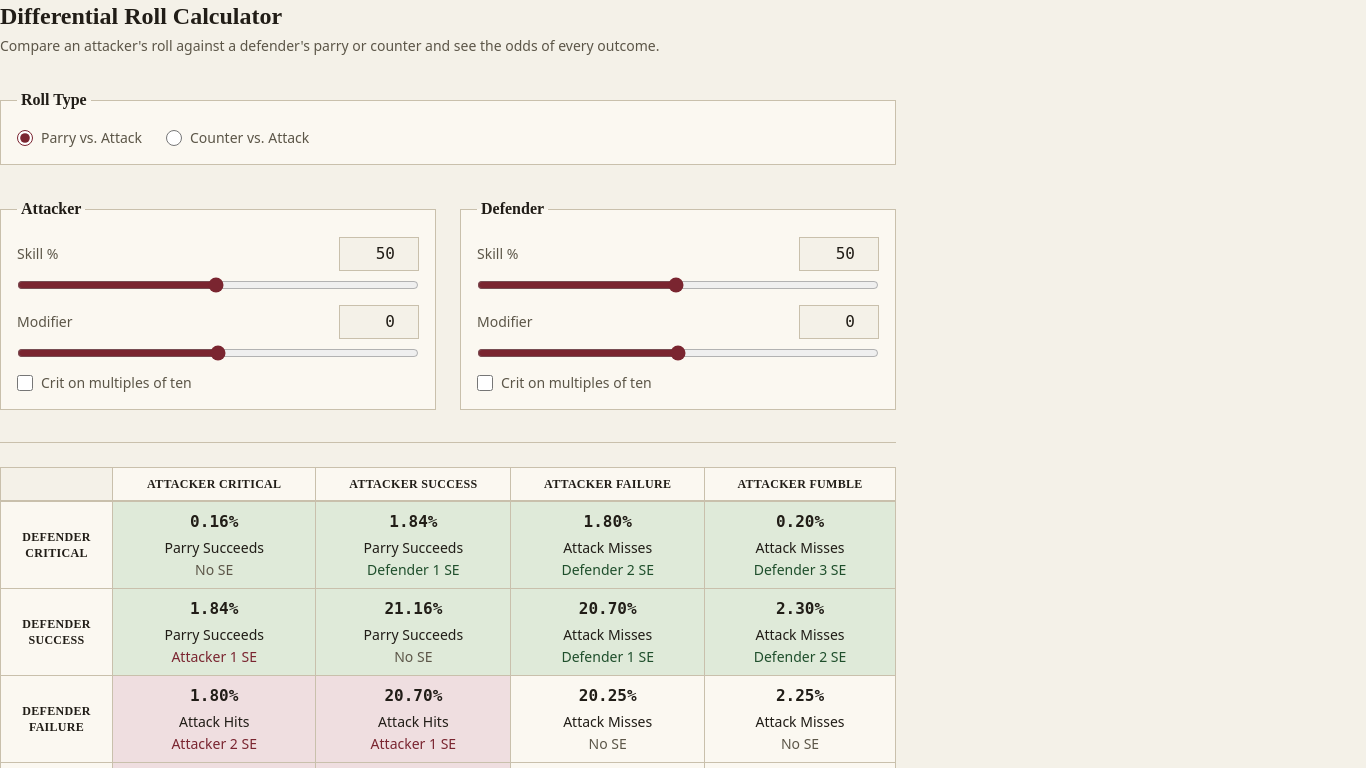
Test case: DifferentialRollCalculator › switches to Counter vs. Attack outcomes when that mode is selected
Click the radio button labelled "Counter vs. Attack" at point(174, 138), box [166,130,182,146]
(page scrolled)
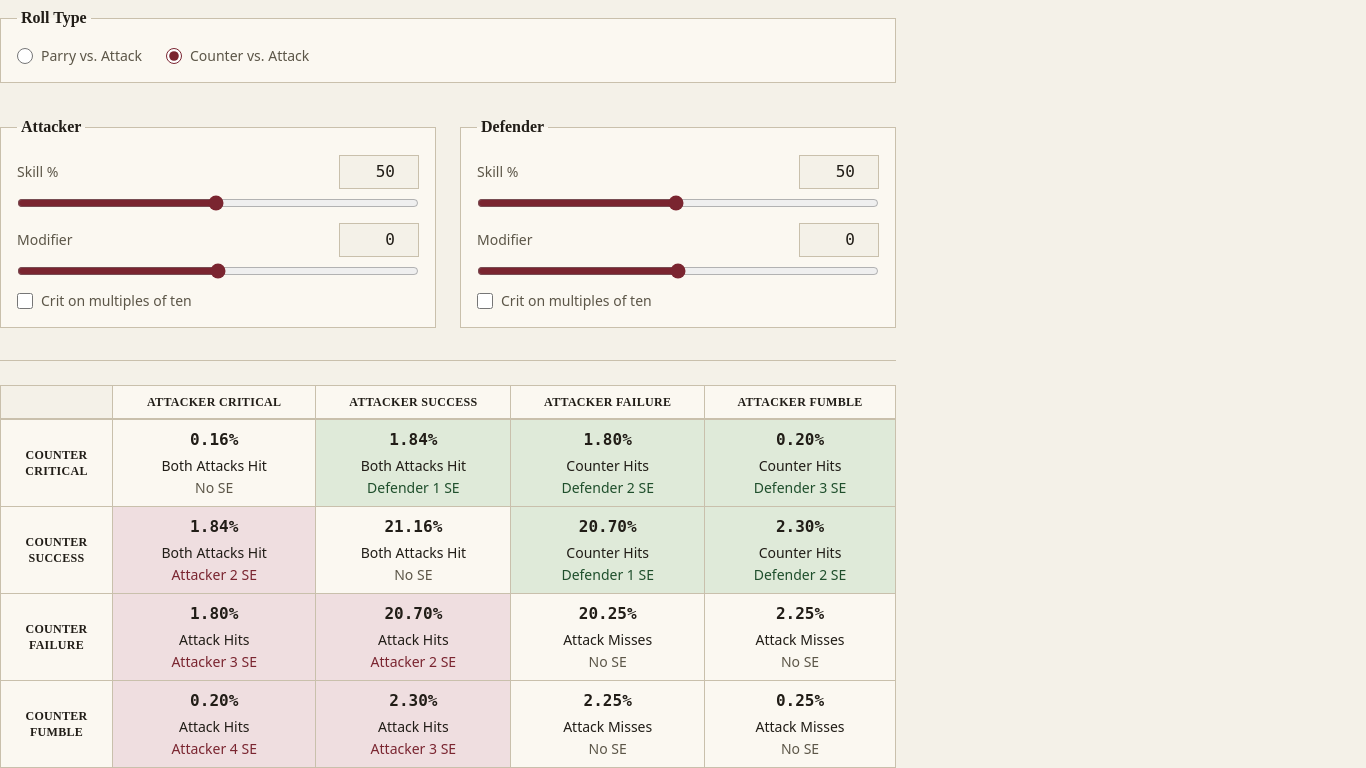
Expected: the message shows "Both Attacks Hit", [162,456,267,475]
Expected: the message no longer shows "Parry Succeeds", [0,360,896,767]
